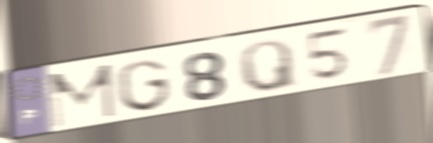5: (304, 26, 354, 84)
7: (363, 10, 415, 79)
8: (181, 50, 230, 102)
G: (114, 57, 174, 114)
M: (46, 61, 120, 131)
Q: (235, 38, 301, 96)
